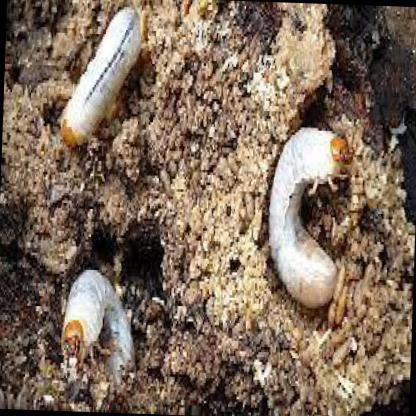root grubs: (270, 127, 348, 311), (60, 10, 140, 148), (60, 270, 137, 397)
